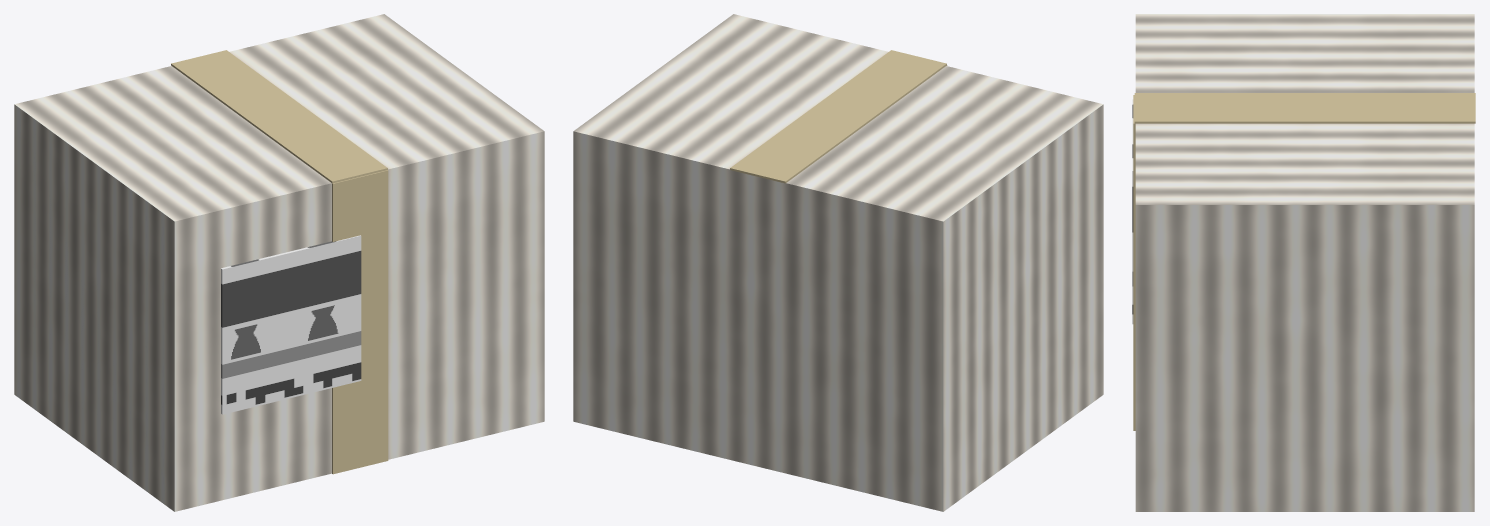
File: scatola_0.obj
3 views of the same model, side by side, from view 1: azimuth 30°, elevation 25°; view 2: azimuth 150°, elevation 25°; view 3: azimuth 270°, elevation 25° (orthographic). The views are drawn at different scales.
Parts seen in each view (by area): view 1: cartone_000, liscio_001, stampa_a_002; view 2: cartone_000, liscio_001; view 3: cartone_000, liscio_001, stampa_a_002.
Boxes of the visible parts, x1,y1,x2,y2 form: cartone_000: (14,14,544,511); liscio_001: (171,50,388,474); stampa_a_002: (221,235,361,414); cartone_000: (573,14,1103,511); liscio_001: (730,50,947,183); cartone_000: (1135,14,1474,511); liscio_001: (1133,93,1475,430); stampa_a_002: (1132,99,1133,324).
Bounding box in the file's own units: 0.4 × 0.302 × 0.304.
Materials: 3 (2 with a texture image).
